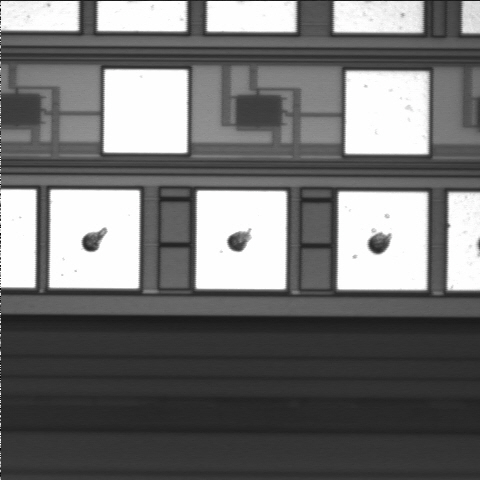pad: (50, 190, 140, 288), (196, 191, 286, 289), (338, 192, 427, 290), (104, 70, 187, 153), (345, 71, 428, 154)
